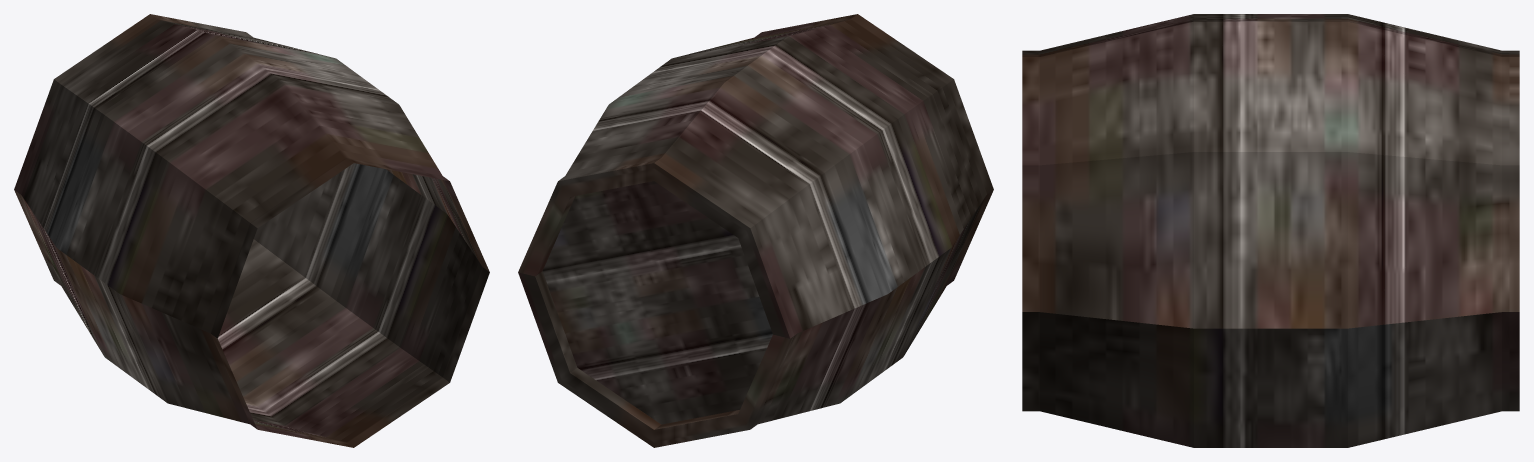
The model's file is Drum.fbx.
3 renders of one model, left to right at view 1: azimuth 30°, elevation 25°; view 2: azimuth 150°, elevation 25°; view 3: azimuth 270°, elevation 25°, orthographic. The views are drawn at different scales.
Parts seen in each view (by area): view 1: Component1; view 2: Component1; view 3: Component1.
Part boxes in pixels (x1,y1,x2,y2): Component1: [14, 14, 489, 447]; Component1: [518, 14, 993, 447]; Component1: [1022, 14, 1519, 447].
Bounding box in the file's own units: 100 × 100 × 108.
